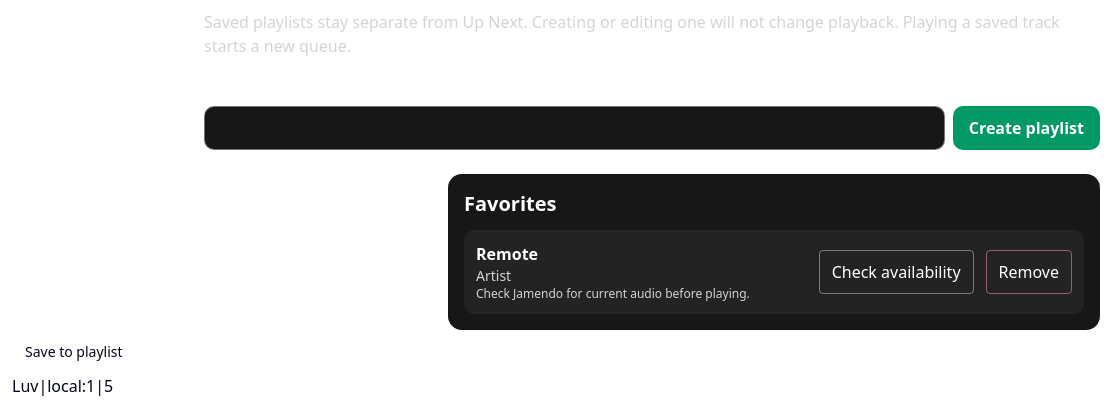
it: saved playlist UI › requires a fresh Jamendo availability check before offering Play
Expected: the text "Check Jamendo for current audio before playing." is shown, [476,285,750,302]
Click the button with aria-label "Check playback availability for Remote": {"x": 896, "y": 272} [819,250,974,294]
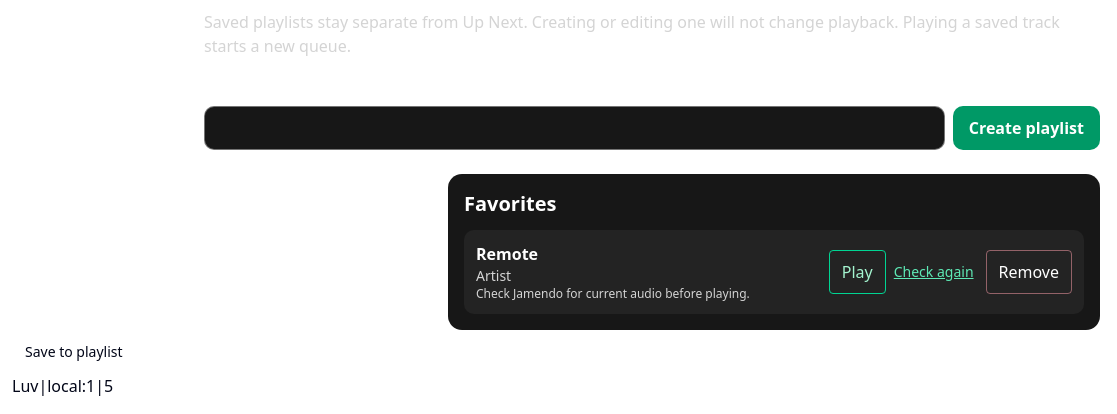
Click the button with aria-label "Play Remote from Artist": {"x": 857, "y": 272} [829,250,886,294]
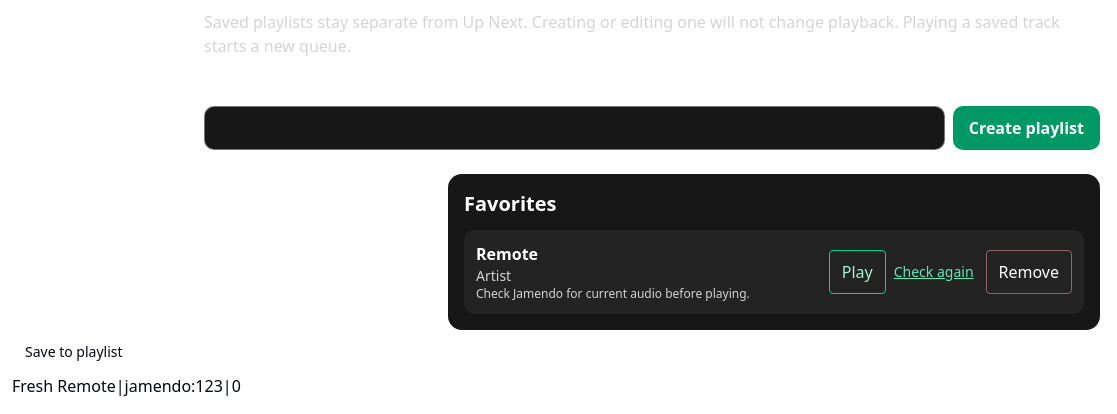
Expected: the text with test id "player-readout" shows "Fresh Remote|jamendo:123", [12,375,116,397]
